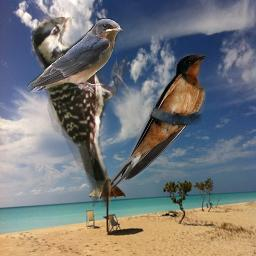Swallow: (103, 51, 210, 191), (27, 18, 123, 96)
Woodpecker: (32, 17, 129, 207)
